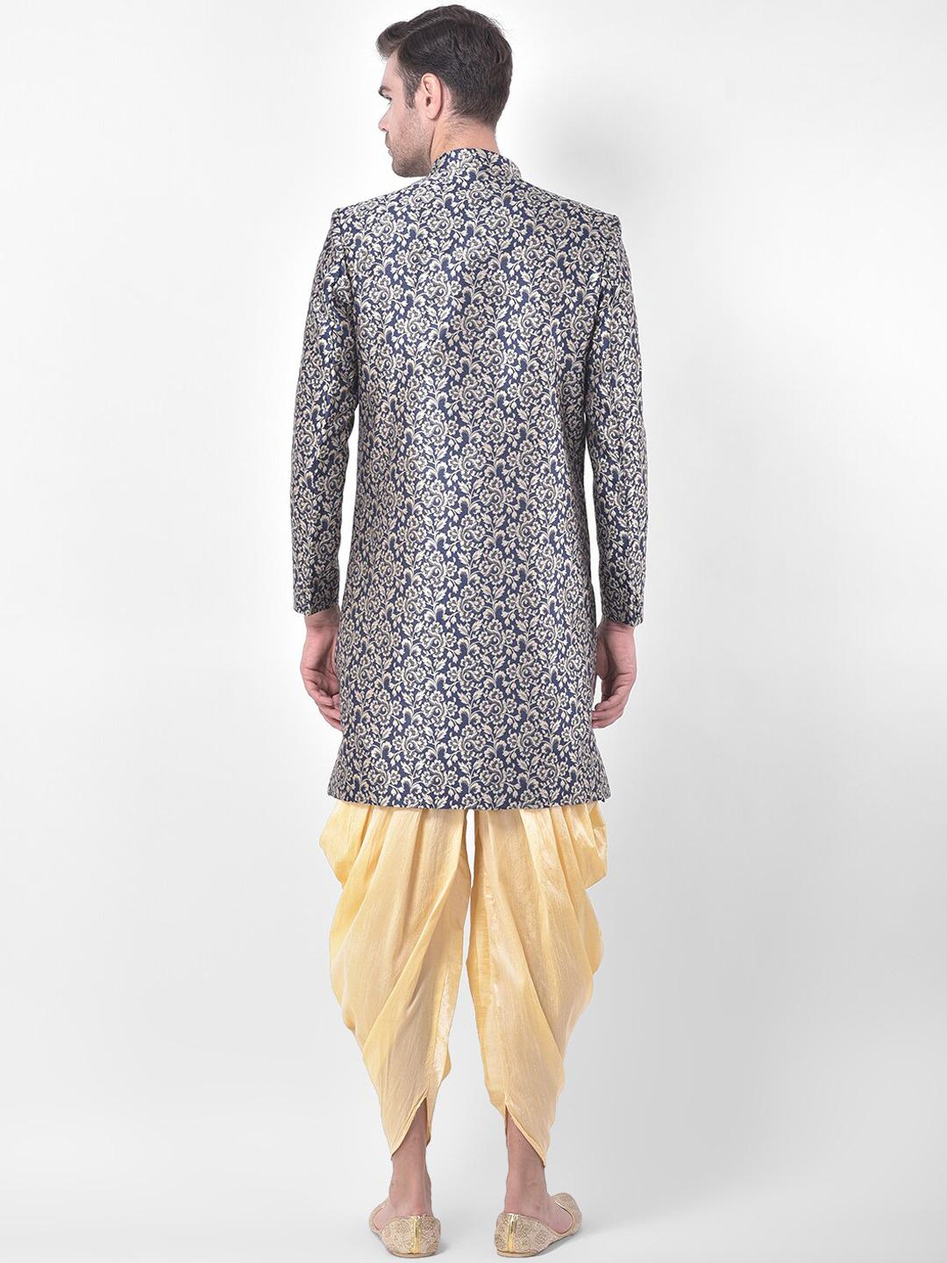Design Sherwani: (287, 148, 647, 817)
